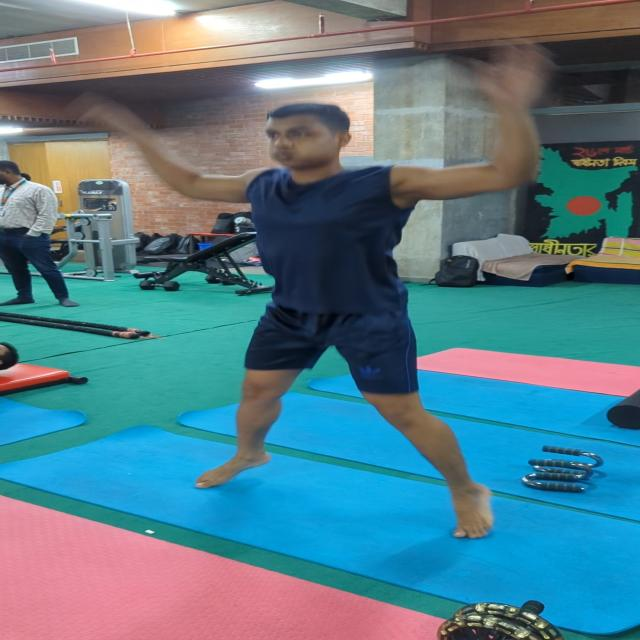Normal_JumpingJacks: (128, 56, 542, 544)
